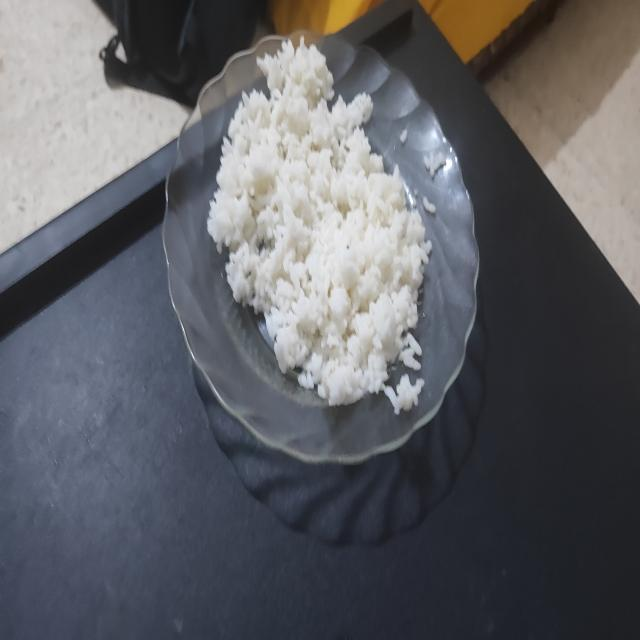nasi_putih: (208, 40, 431, 390)
